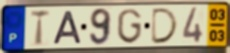4: (181, 6, 205, 45)
9: (89, 7, 114, 48)
A: (52, 10, 84, 46)
D: (149, 7, 180, 46)
G: (116, 8, 143, 46)
T: (29, 9, 52, 48)
